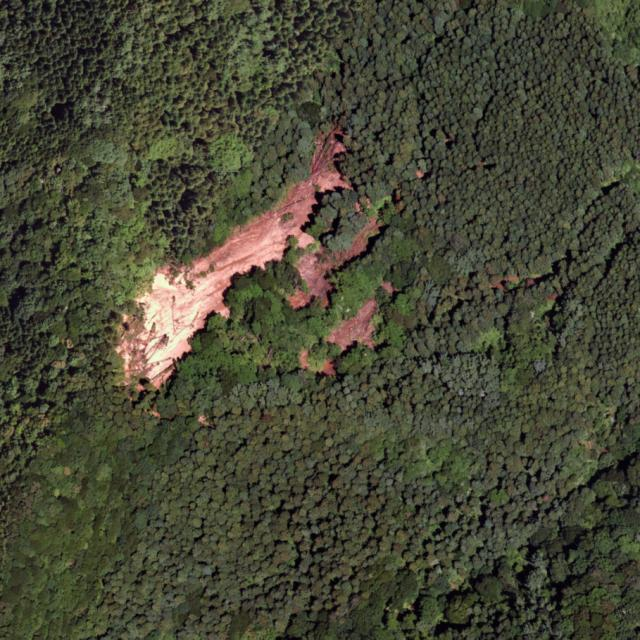landslide: (117, 128, 379, 387), (327, 306, 375, 350)
